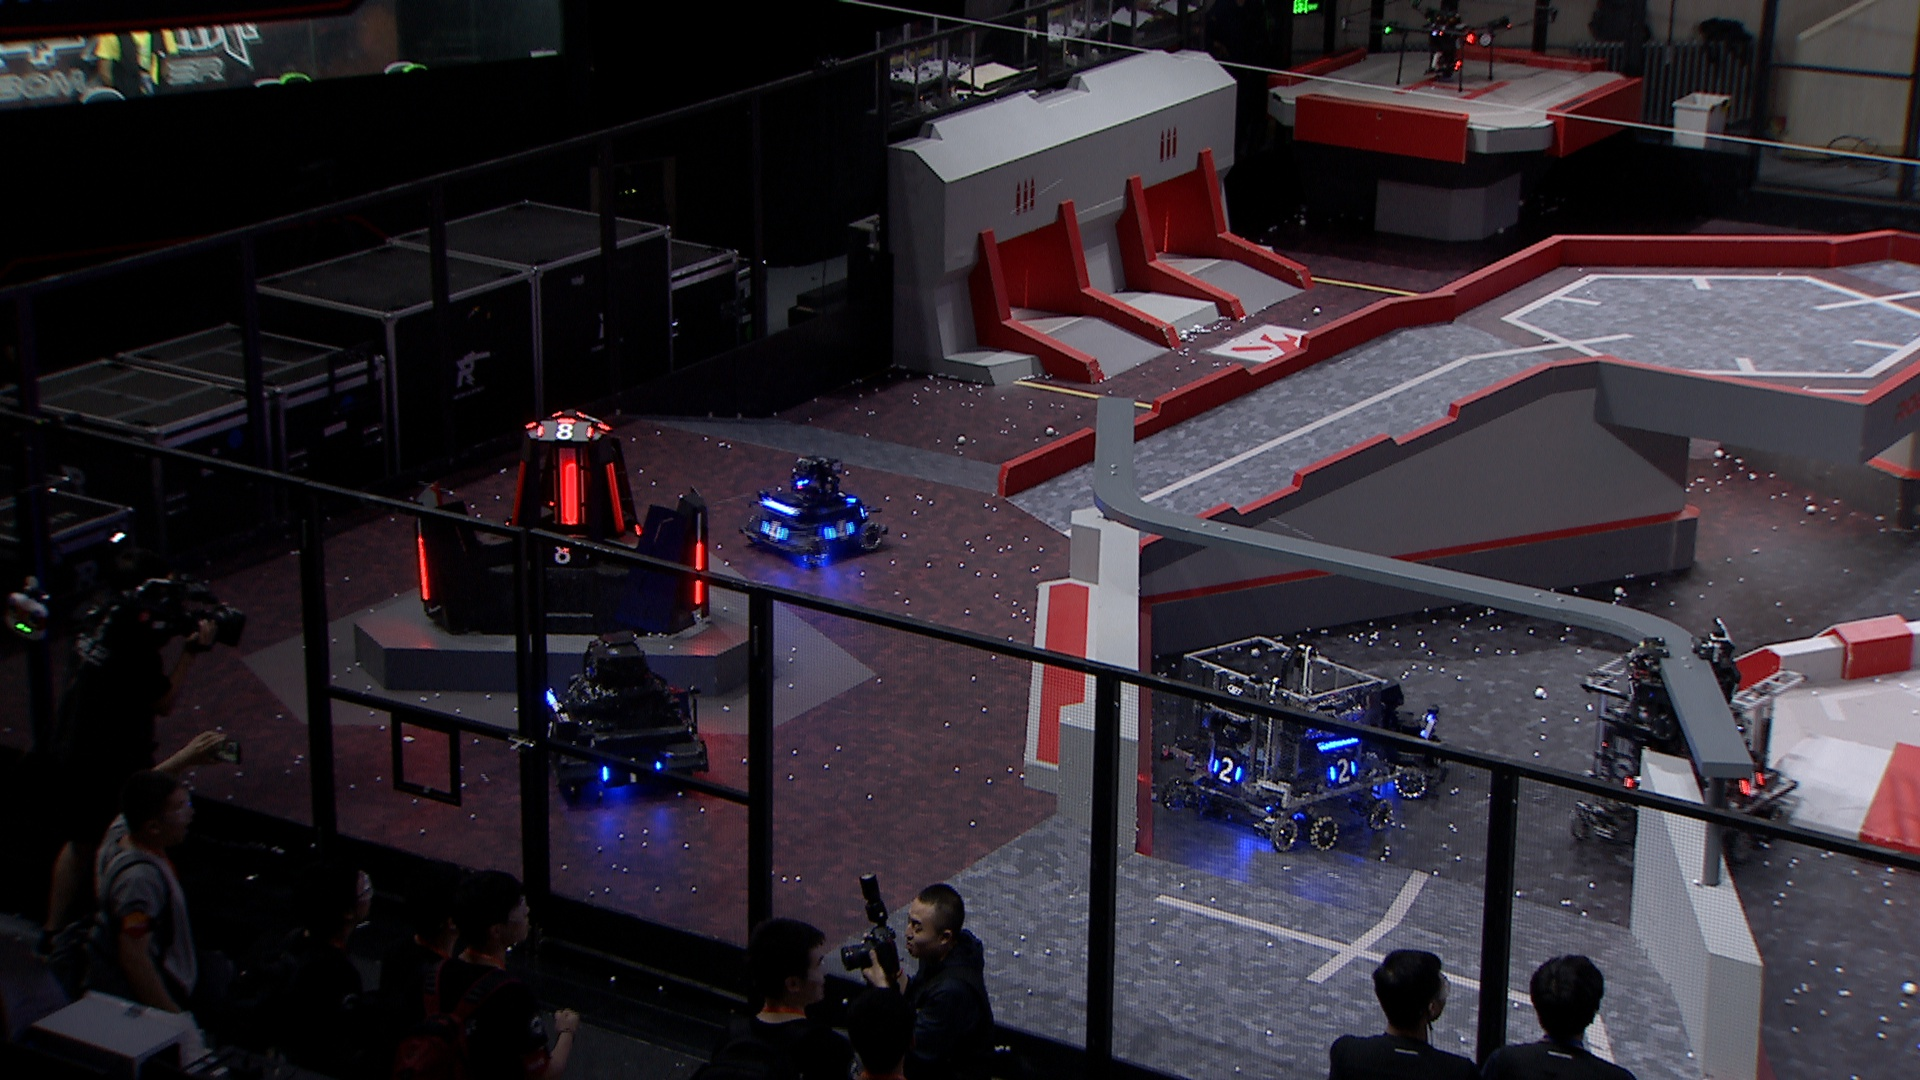armor: (596, 750, 665, 793), (599, 462, 632, 533), (551, 455, 583, 527), (501, 462, 533, 529), (535, 535, 595, 570), (411, 531, 433, 603), (535, 419, 595, 443), (688, 541, 711, 603), (1733, 767, 1770, 800), (1327, 752, 1361, 785), (822, 517, 858, 546), (1209, 756, 1244, 785), (537, 713, 562, 746), (760, 520, 793, 545)
base: (411, 406, 713, 633)
car: (1565, 638, 1807, 866), (1162, 636, 1394, 856), (534, 624, 711, 804), (1305, 674, 1447, 803), (741, 452, 885, 568)
watcher: (1627, 616, 1741, 742)
